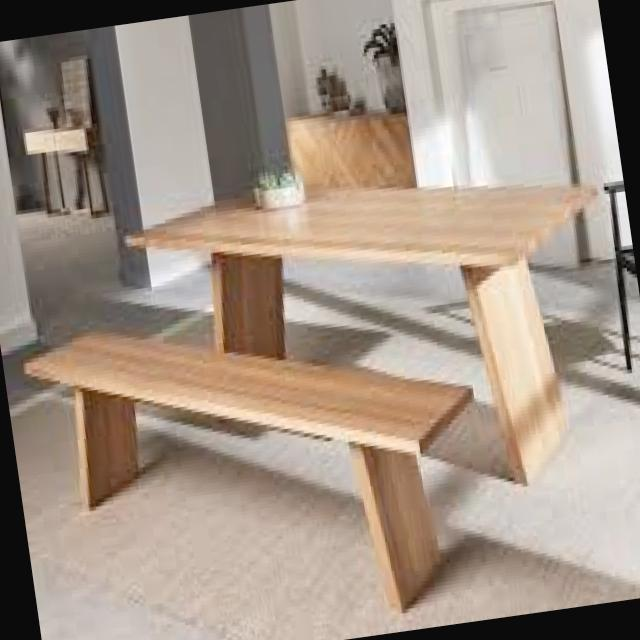obstacle: (2, 230, 512, 616), (107, 44, 608, 347)
